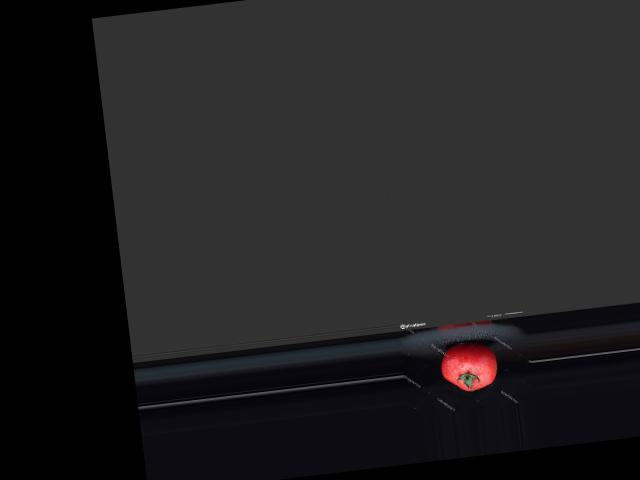tomato: (438, 339, 500, 394)
